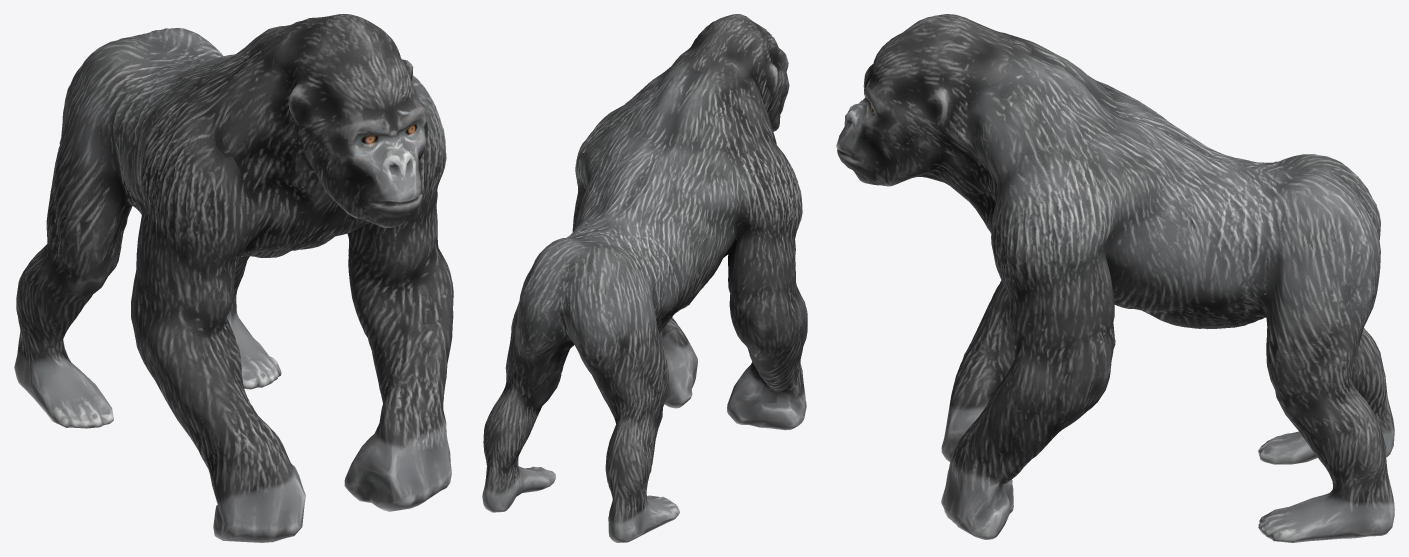
File: Ape.glb
3 renders of one model, left to right at view 1: azimuth 30°, elevation 25°; view 2: azimuth 150°, elevation 25°; view 3: azimuth 270°, elevation 25°, orthographic. The views are drawn at different scales.
Visible parts, largest first — view 1: Gorilla t.001; view 2: Gorilla t.001; view 3: Gorilla t.001.
Part boxes in pixels (x1=…): Gorilla t.001: x1=14, y1=14, x2=453, y2=542; Gorilla t.001: x1=482, y1=14, x2=807, y2=542; Gorilla t.001: x1=836, y1=14, x2=1394, y2=542.
Bounding box in the file's own units: 0.4184 × 0.6884 × 0.7329.
Materials: 3 (3 with a texture image).
